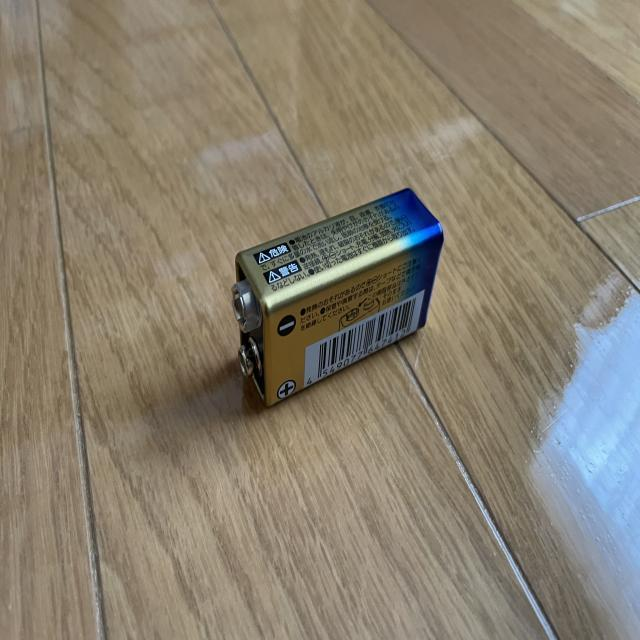9V: (232, 189, 445, 416)
